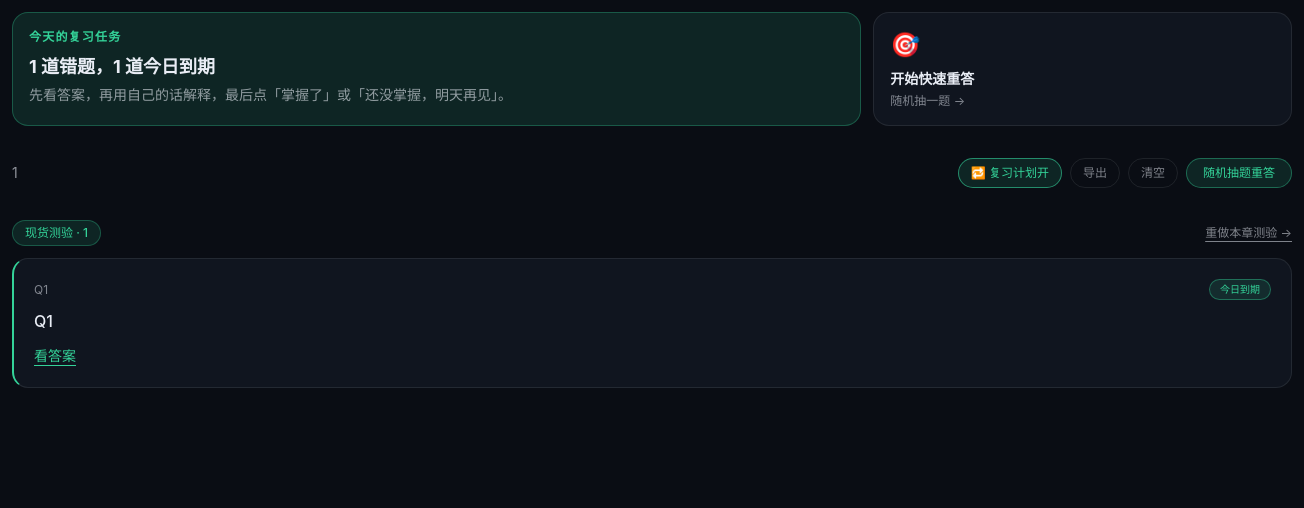
Test case: ReviewClient「怎么做」那句点名的是真按钮 › 关掉复习计划：改点那颗真的会出库的按钮
Click the button "🔁 复习计划开" at {"x": 1010, "y": 173}, box 958,158 -> 1062,188
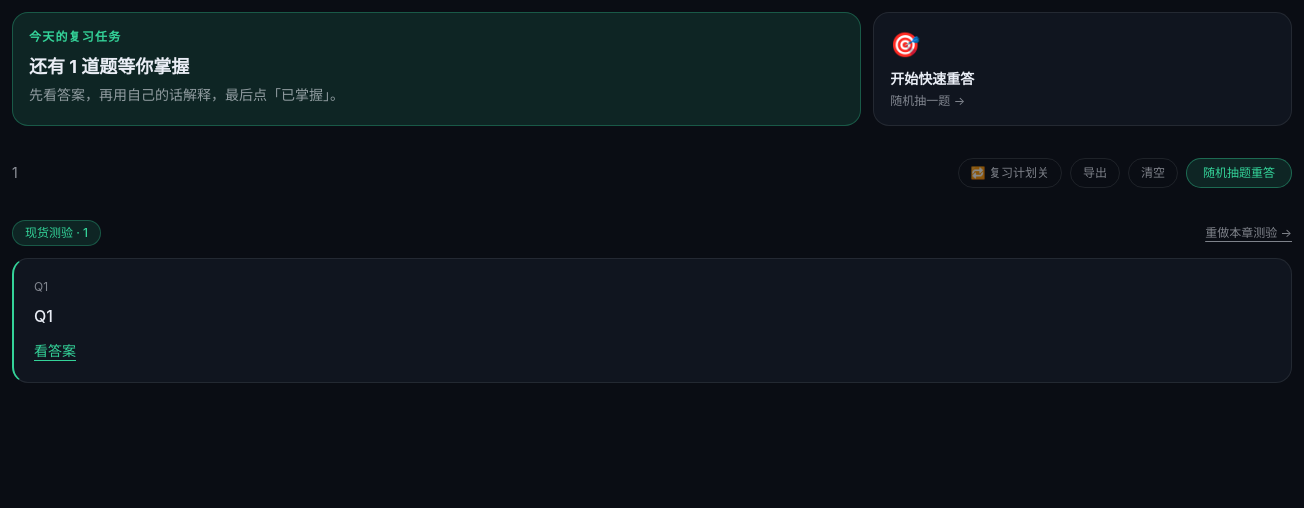
Click the button "看答案" at {"x": 55, "y": 351}, box 34,341 -> 76,361
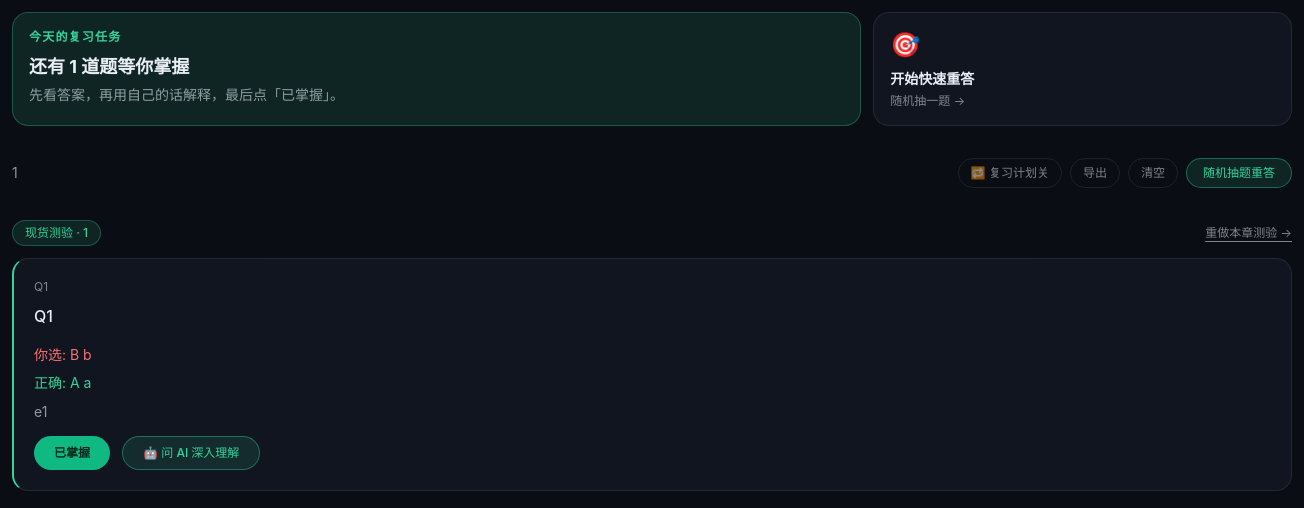
Result: the button "已掌握" is shown at 34,436 -> 110,470
